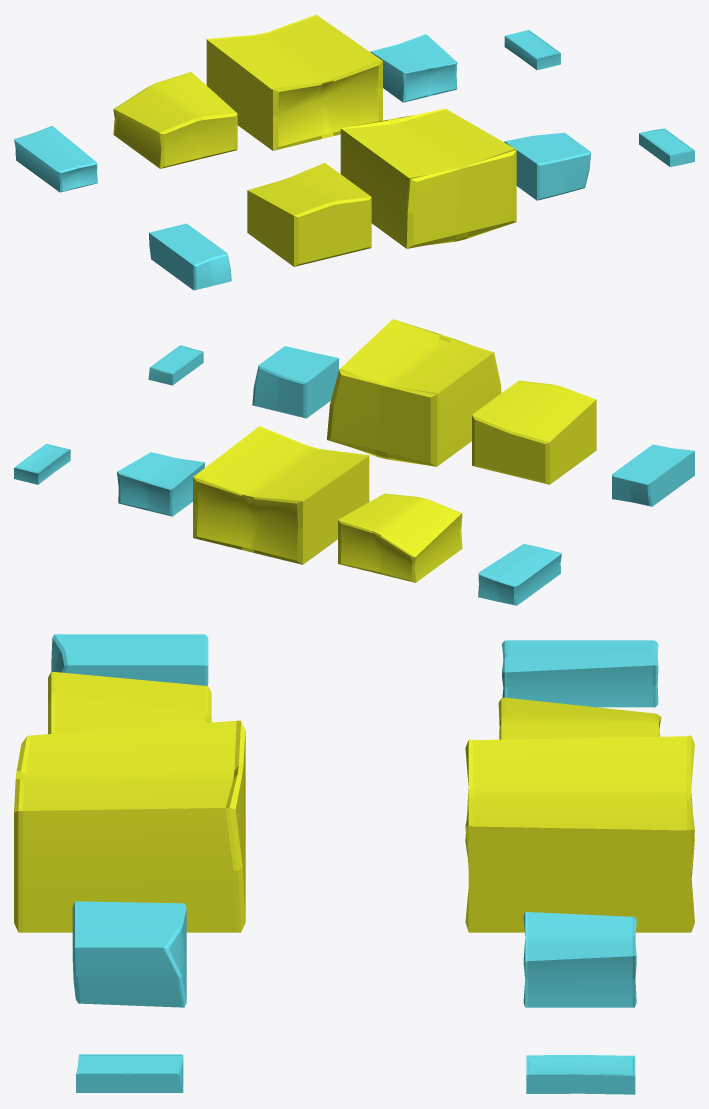
The model's file is Props_Gamelab_Destroyed.fbx.
3 views of the same model, one above another, from view 1: azimuth 30°, elevation 25°; view 2: azimuth 150°, elevation 25°; view 3: azimuth 270°, elevation 25° (orthographic). The views are drawn at different scales.
Parts seen in each view (by area): view 1: Box006, Box008, Object006, Object009, Object004, Object007, Box007, Box009, Object008, Object005; view 2: Box006, Box008, Object006, Object009, Object004, Object007, Box007, Box009, Object008, Object005; view 3: Box006, Box008, Object004, Object007, Box009, Object006, Box007, Object009, Object008, Object005.
Part boxes in pixels (<box>): Box006: <box>340,108,516,248</box>; Box008: <box>206,14,382,150</box>; Object006: <box>247,163,371,266</box>; Object009: <box>113,72,237,168</box>; Object004: <box>504,132,590,200</box>; Object007: <box>370,34,457,102</box>; Box007: <box>149,223,231,290</box>; Box009: <box>14,125,97,192</box>; Object008: <box>504,30,560,70</box>; Object005: <box>639,128,694,166</box>; Box006: <box>327,319,501,466</box>; Box008: <box>193,426,369,564</box>; Object006: <box>472,380,596,484</box>; Object009: <box>338,493,462,582</box>; Object004: <box>252,346,338,418</box>; Object007: <box>117,452,204,516</box>; Box007: <box>612,444,694,506</box>; Box009: <box>478,544,561,605</box>; Object008: <box>14,444,70,484</box>; Object005: <box>148,345,203,385</box>; Box006: <box>14,720,245,932</box>; Box008: <box>465,735,694,932</box>; Object004: <box>72,901,186,1007</box>; Object007: <box>523,912,636,1007</box>; Box009: <box>502,640,658,707</box>; Object006: <box>48,672,211,734</box>; Box007: <box>51,634,208,686</box>; Object009: <box>498,697,661,739</box>; Object008: <box>526,1055,635,1094</box>; Object005: <box>76,1054,183,1092</box>.
Bounding box in the file's own units: 614 × 90.19 × 423.
